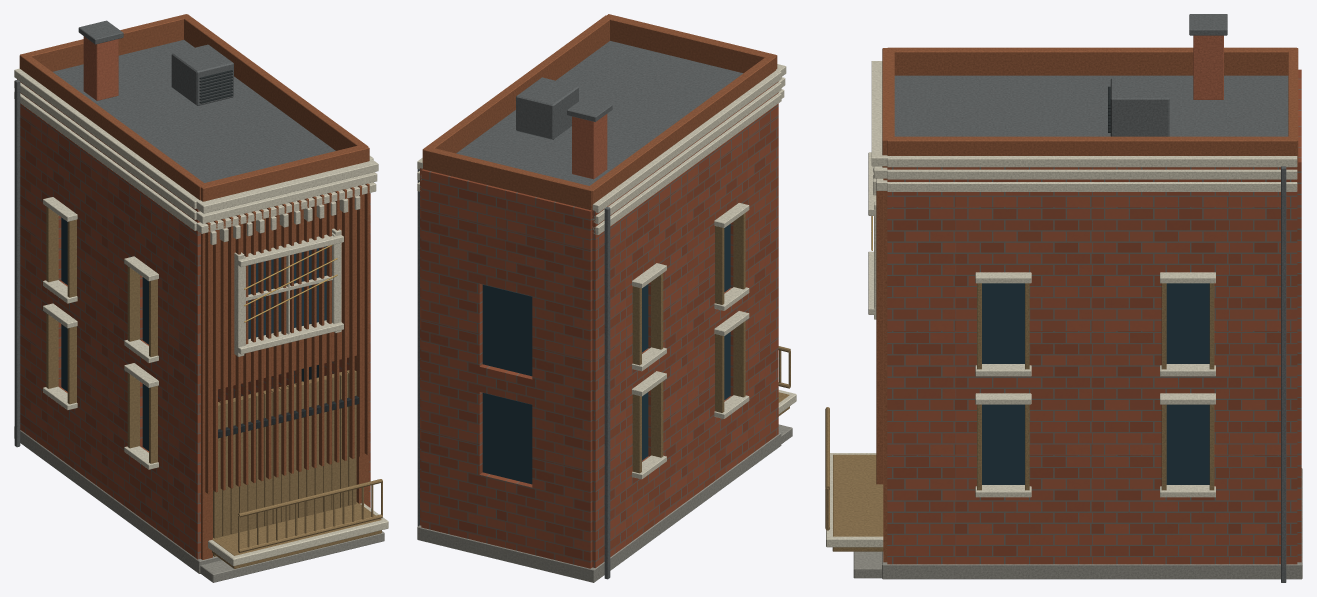
File: WHSE17_lod1.glb
The picture shows the model from 3 angles, left to right: view 1: azimuth 30°, elevation 25°; view 2: azimuth 150°, elevation 25°; view 3: azimuth 270°, elevation 25°; orthographic projection. The views are drawn at different scales.
Visible parts, largest first — view 1: WHSE17_LOD1; view 2: WHSE17_LOD1; view 3: WHSE17_LOD1.
Part boxes in pixels (x1,y1,x2,y2): WHSE17_LOD1: [14, 14, 388, 582]; WHSE17_LOD1: [417, 14, 796, 582]; WHSE17_LOD1: [825, 14, 1302, 582].
Size of the model in its own units: 3.71 by 7.85 by 6.98.
11 materials, 8 textured.
